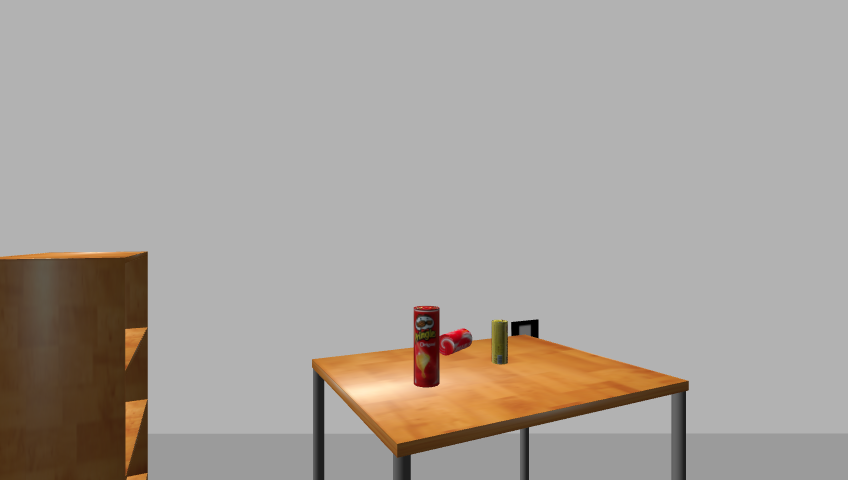aruco marker: (508, 318, 543, 342)
biscuits pack: (491, 319, 508, 366)
bookshelf: (0, 250, 156, 480)
coke can: (439, 328, 472, 357)
dinner table: (302, 336, 697, 480)
pringles can: (411, 305, 443, 389)
